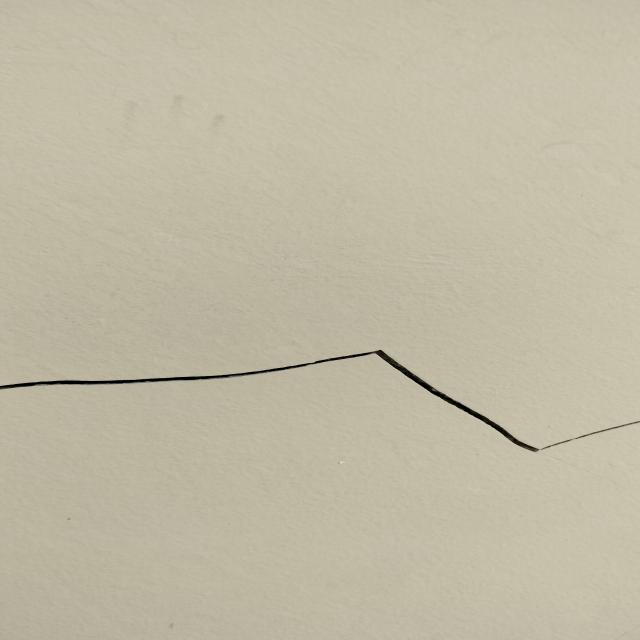Crack: (0, 347, 640, 455)
